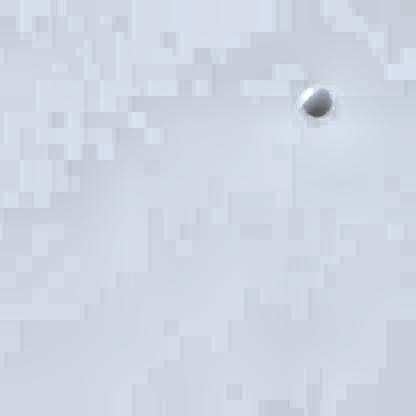golfball: (299, 82, 329, 113)
